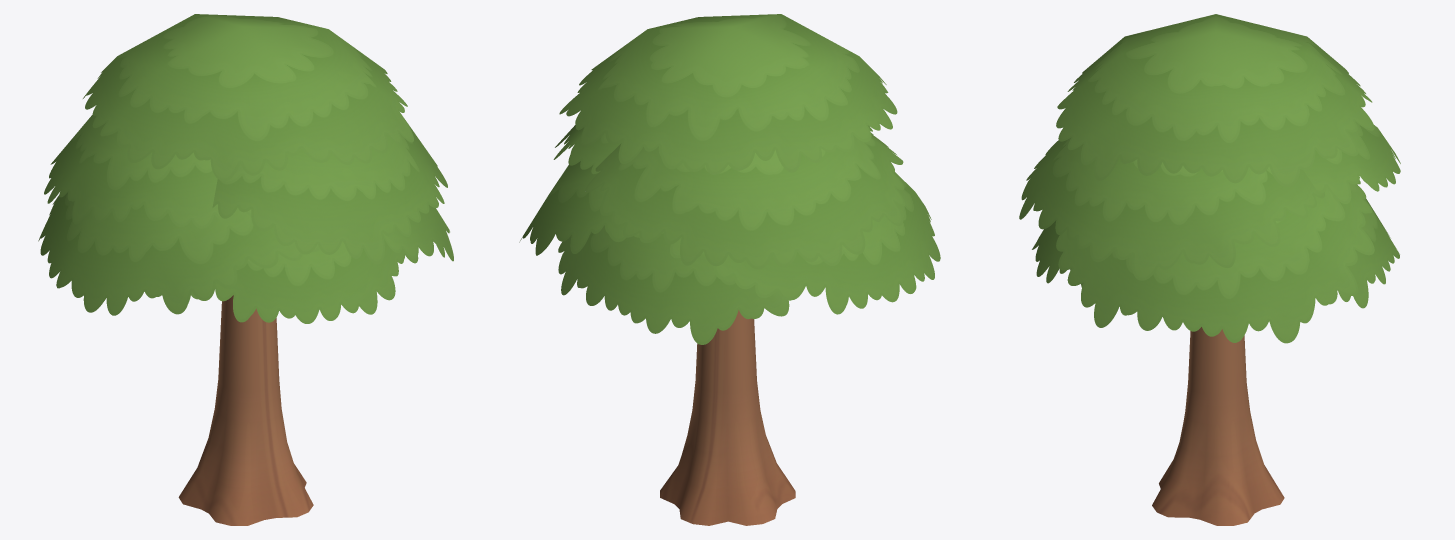
Rendered from elyse2.fbx.
The picture shows the model from 3 angles, left to right: view 1: azimuth 30°, elevation 25°; view 2: azimuth 150°, elevation 25°; view 3: azimuth 270°, elevation 25°; orthographic projection.
Parts seen in each view (by area): view 1: elyse2_foliage.001, trunk_lowP; view 2: elyse2_foliage.001, trunk_lowP; view 3: elyse2_foliage.001, trunk_lowP.
Boxes of the visible parts, left/top/right/bottom form: elyse2_foliage.001: left=38, top=14, right=453, bottom=323; trunk_lowP: left=178, top=295, right=313, bottom=525; elyse2_foliage.001: left=519, top=14, right=940, bottom=344; trunk_lowP: left=660, top=310, right=795, bottom=525; elyse2_foliage.001: left=1019, top=14, right=1400, bottom=343; trunk_lowP: left=1152, top=327, right=1284, bottom=525.
Size of the model in its own units: 192 by 218 by 191.
